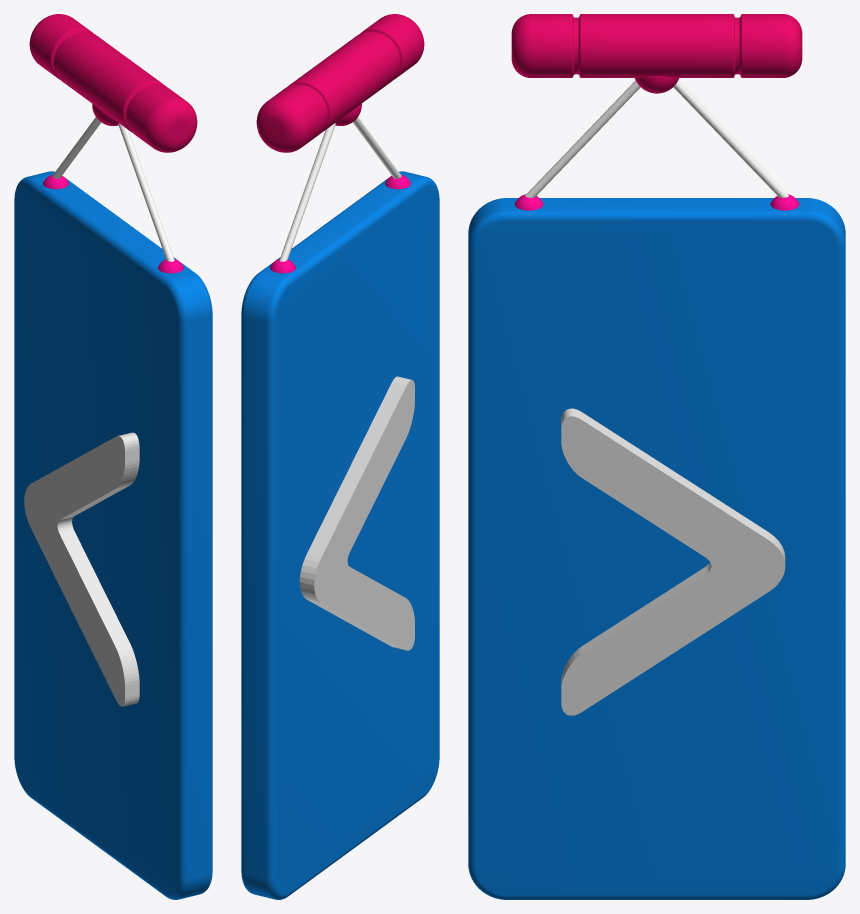
File: floating_arrow.glb
3 views of the same model, side by side, from view 1: azimuth 30°, elevation 25°; view 2: azimuth 150°, elevation 25°; view 3: azimuth 270°, elevation 25° (orthographic). The views are drawn at different scales.
Parts seen in each view (by area): view 1: Cube.001, Cube, Cylinder.002, Cylinder.001, Cylinder.003; view 2: Cube.001, Cube, Cylinder.002, Cylinder.003, Cylinder.001; view 3: Cube.001, Cube, Cylinder.002, Cylinder.003, Cylinder.001.
Part boxes in pixels (x1,y1,x2,y2): Cube.001: (14, 171, 212, 899); Cube: (24, 432, 139, 706); Cylinder.002: (29, 14, 197, 152); Cylinder.001: (118, 123, 174, 261); Cylinder.003: (52, 117, 100, 178); Cube.001: (241, 171, 439, 899); Cube: (299, 376, 414, 650); Cylinder.002: (256, 14, 424, 152); Cylinder.003: (279, 123, 335, 261); Cylinder.001: (353, 117, 401, 178); Cube.001: (468, 198, 845, 899); Cube: (561, 408, 785, 715); Cylinder.002: (511, 14, 802, 77); Cylinder.003: (673, 80, 788, 197); Cylinder.001: (525, 80, 640, 197).
Size of the model in its own units: 0.429 by 5.12 by 2.
